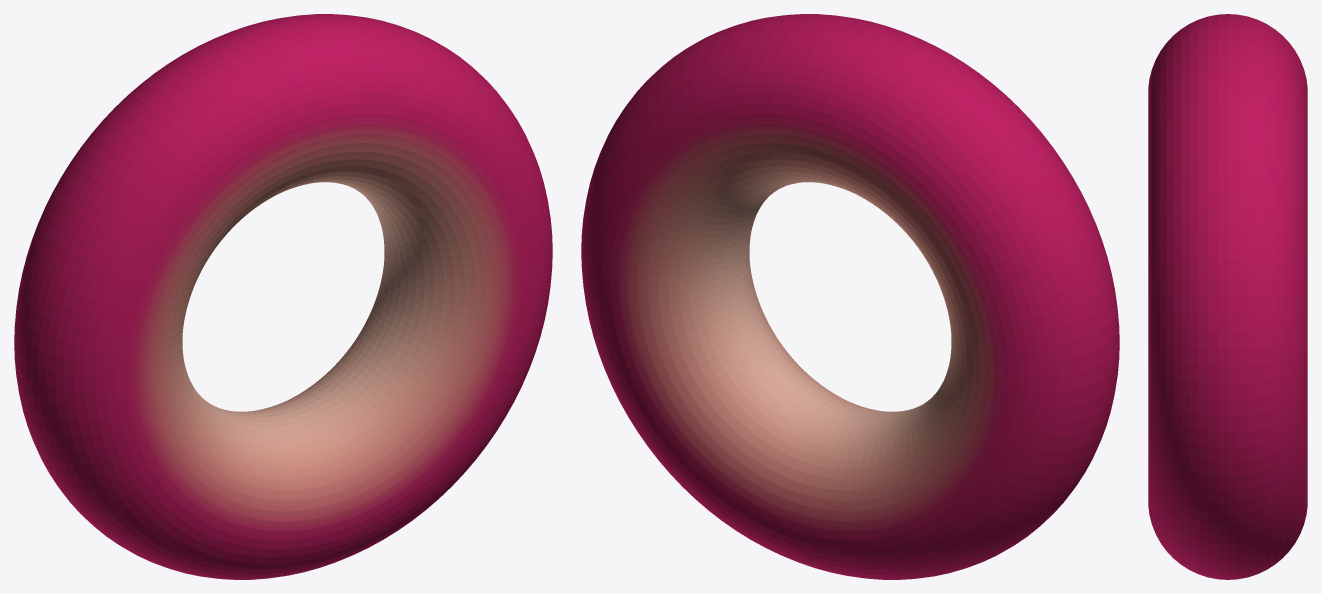
The picture shows the model from 3 angles, left to right: view 1: azimuth 30°, elevation 25°; view 2: azimuth 150°, elevation 25°; view 3: azimuth 270°, elevation 25°; orthographic projection. The views are drawn at different scales.
Parts seen in each view (by area): view 1: world; view 2: world; view 3: world.
Boxes of the visible parts, x1,y1,x2,y2 form: world: (14, 14, 552, 579); world: (581, 14, 1119, 579); world: (1148, 14, 1307, 579).
Bounding box in the file's own units: 29.73 × 29.73 × 8.38.
